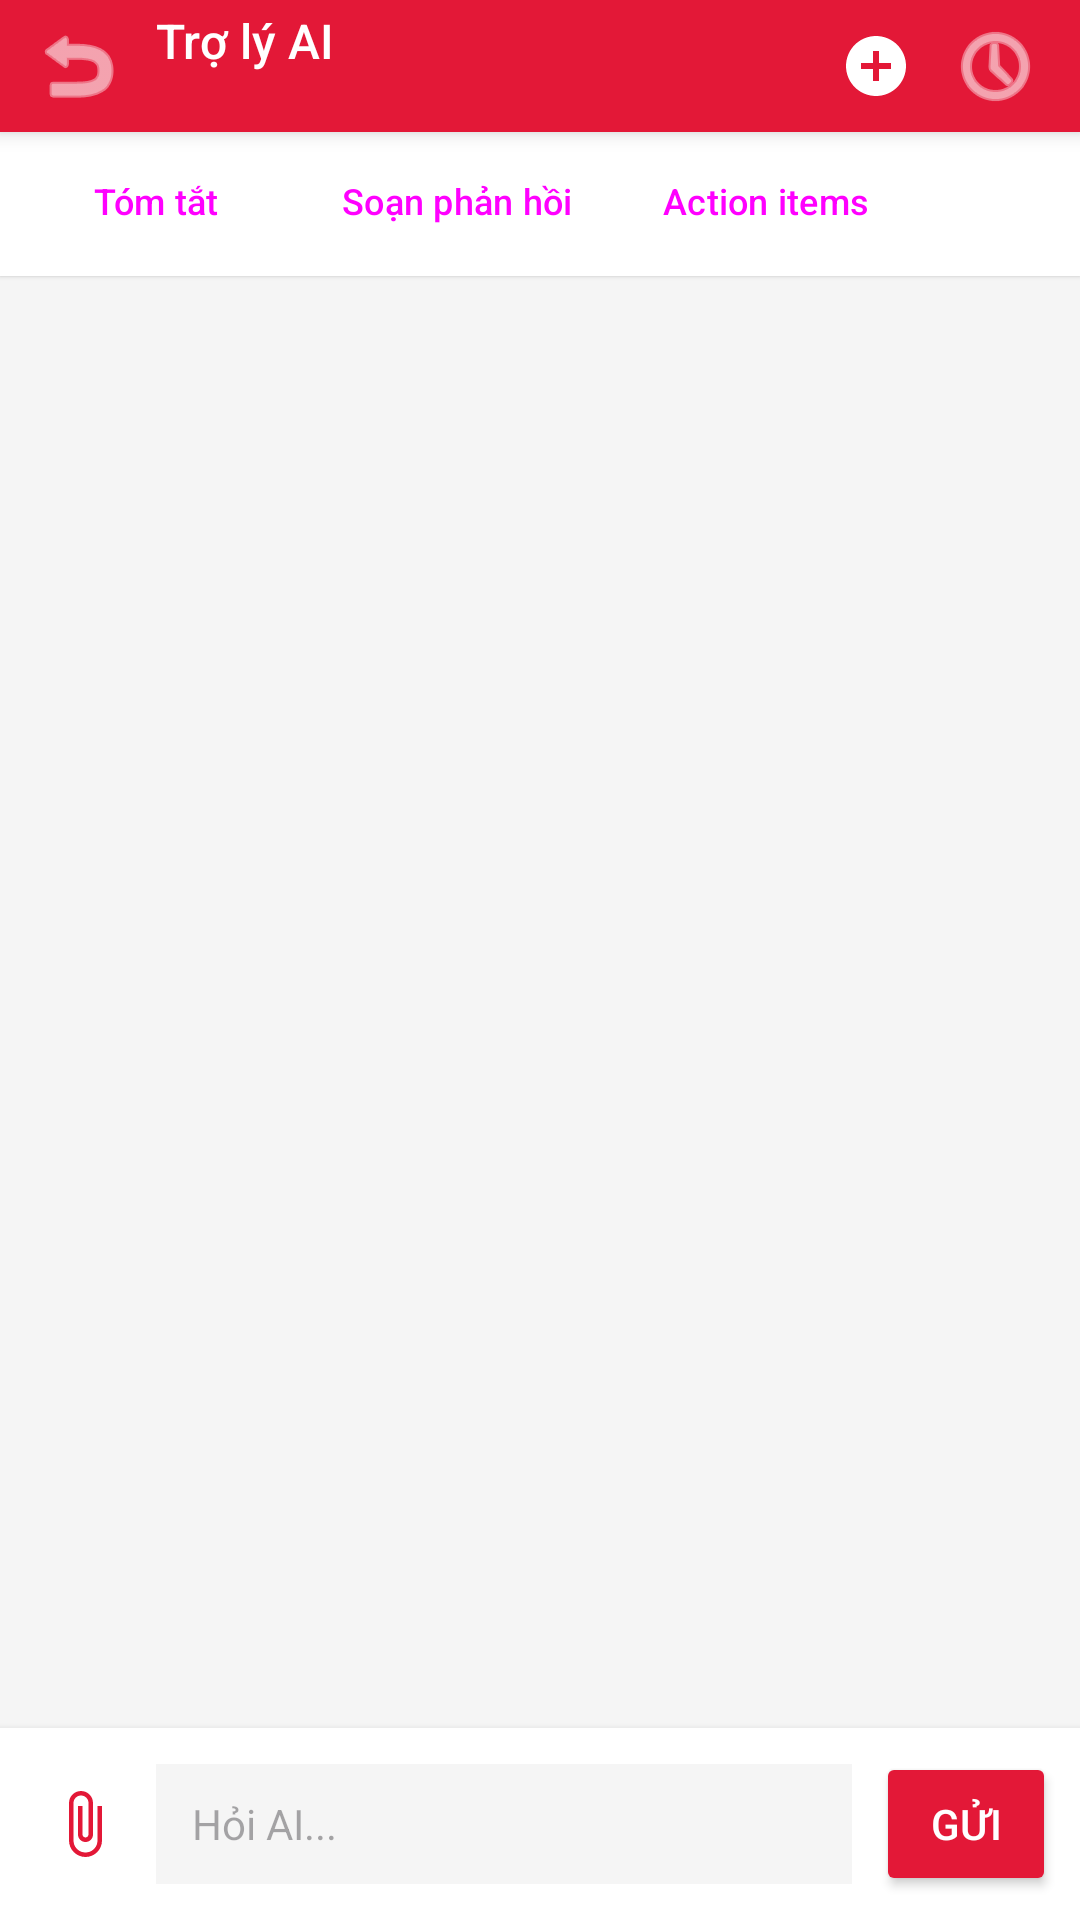

Icon bounding boxes for this 1080px×1920px phone screenshot, format (x1, y1, x2, y2):
Back: (45, 35, 114, 98)
Chat mới: (846, 36, 906, 96)
Lịch sử chat: (961, 32, 1030, 101)
Đính kèm file: (69, 1791, 102, 1857)
